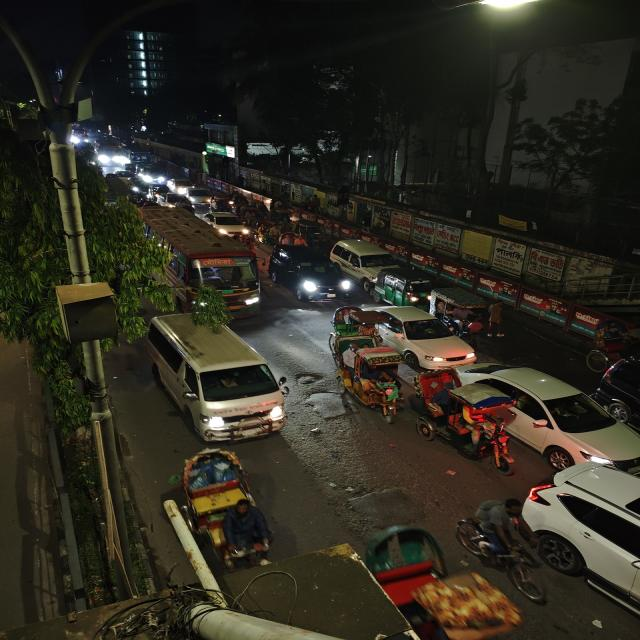bicycle: (463, 500, 558, 604)
bus: (146, 210, 264, 316)
car: (517, 451, 640, 628), (461, 358, 639, 474), (140, 313, 293, 445), (369, 304, 476, 368), (268, 244, 350, 306), (597, 353, 640, 449), (330, 239, 404, 279), (202, 211, 250, 237), (137, 161, 170, 186), (183, 188, 217, 205), (166, 176, 198, 194)
cng: (372, 268, 437, 306)
rickshaw: (412, 367, 521, 474), (334, 341, 407, 425), (585, 311, 640, 367)
